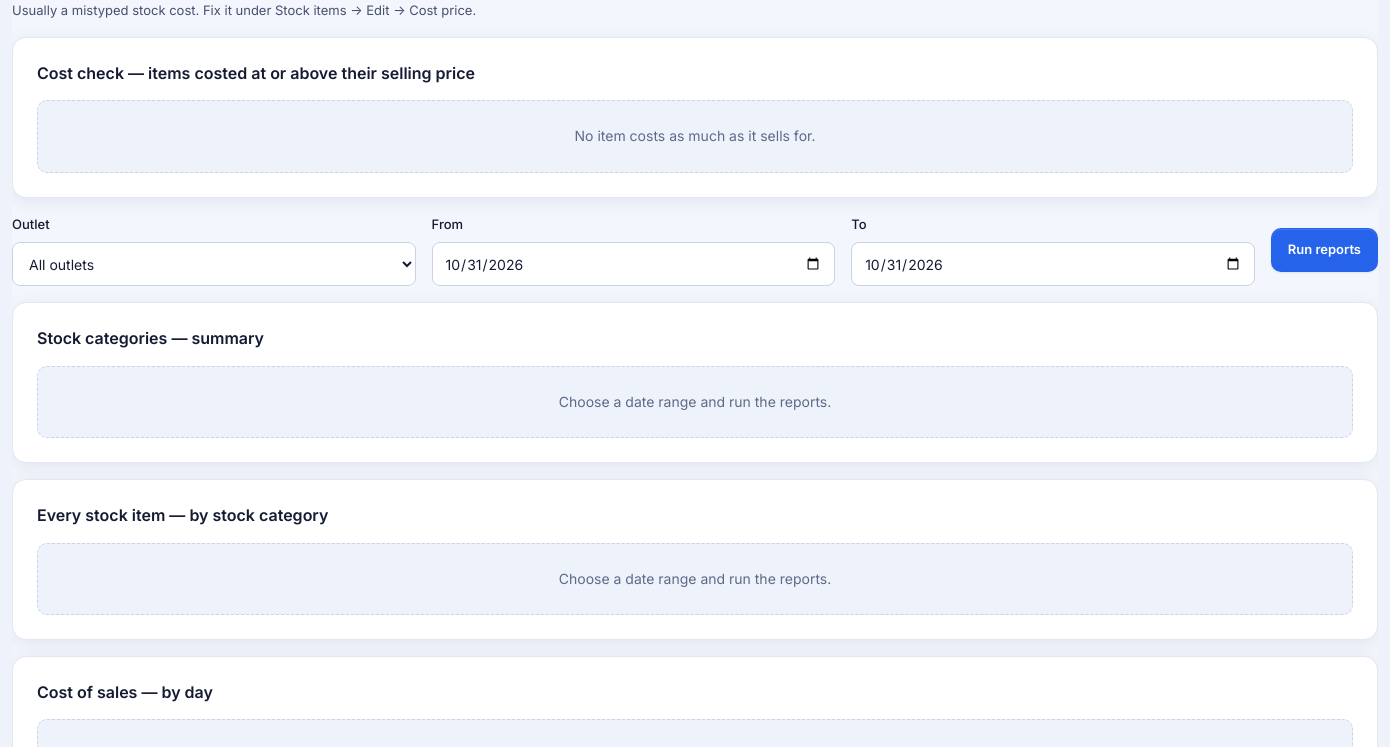
Test: <StockReportsTab> › running the reports shows the real cost-of-sales and variance figures
The image size is (1390, 747).
Click the button "Run reports" at (1324, 250), box [1271,228,1378,272]
(page scrolled)
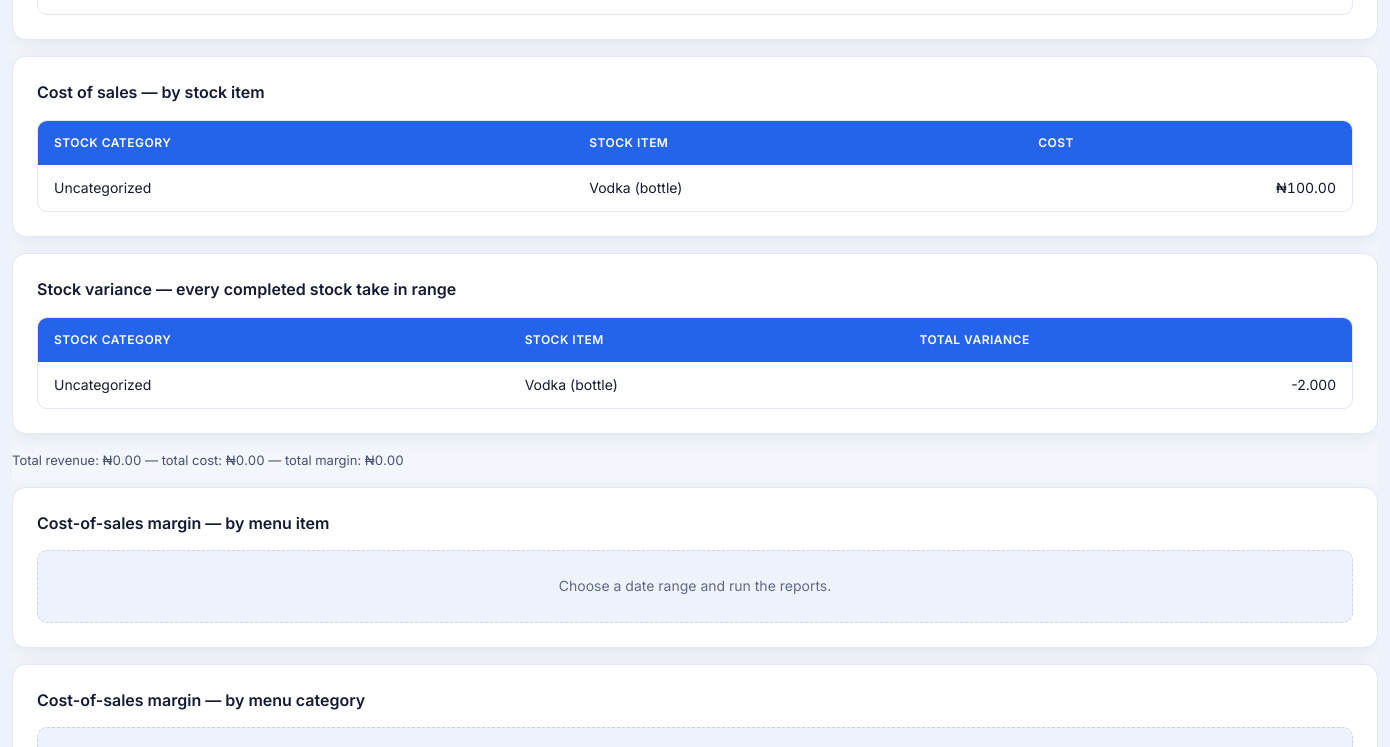
Check: the 1st text "Vodka (bottle)" is shown, box [573,164,1022,211]
Check: the text "Vodka (bottle)" in the row of "-2.000" is shown, box [525,376,618,393]
Check: the text "-2.000" is shown, box [903,361,1352,408]
